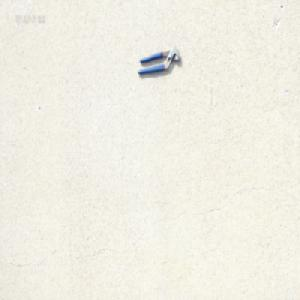Pliers: (136, 46, 180, 76)
